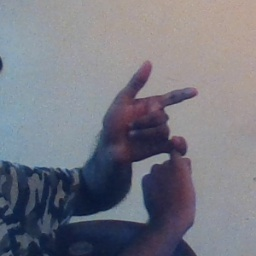S: (95, 59, 210, 210)
